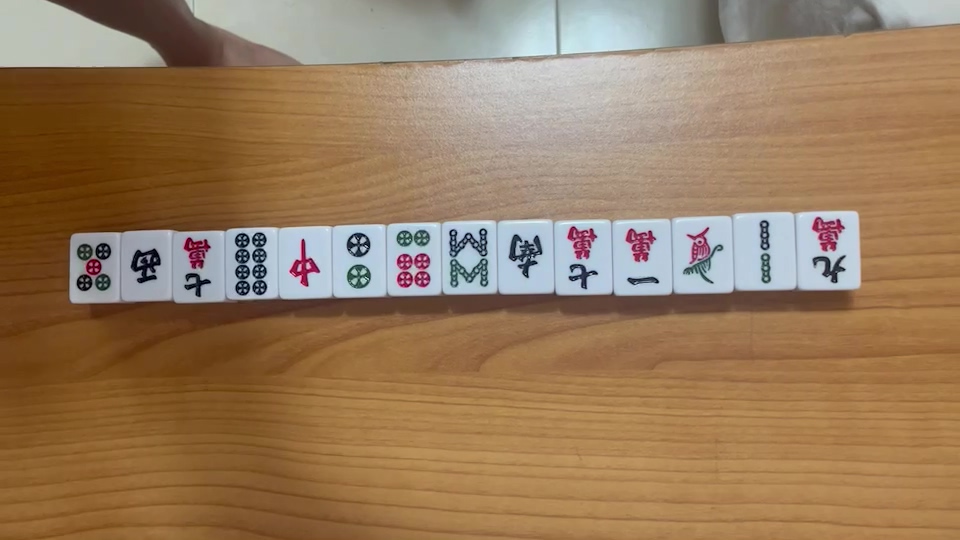b-1: (683, 225, 724, 287)
b-2: (752, 214, 779, 285)
b-8: (445, 225, 489, 290)
c-1: (620, 227, 661, 289)
c-7: (563, 222, 599, 292), (176, 234, 213, 298)
c-9: (807, 216, 850, 287)
d-2: (338, 230, 374, 291)
d-5: (74, 239, 111, 295)
d-6: (389, 228, 434, 289)
d-8: (230, 231, 271, 298)
honors-red: (286, 236, 322, 292)
honors-south: (506, 230, 544, 281)
honors-west: (128, 248, 163, 286)
